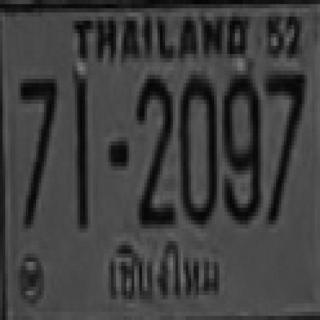N00: (178, 75, 214, 220)
N01: (74, 75, 86, 229)
N02: (137, 75, 173, 224)
N07: (263, 71, 304, 220), (18, 75, 54, 224)
N09: (222, 71, 258, 220)
P11: (101, 228, 226, 306)
